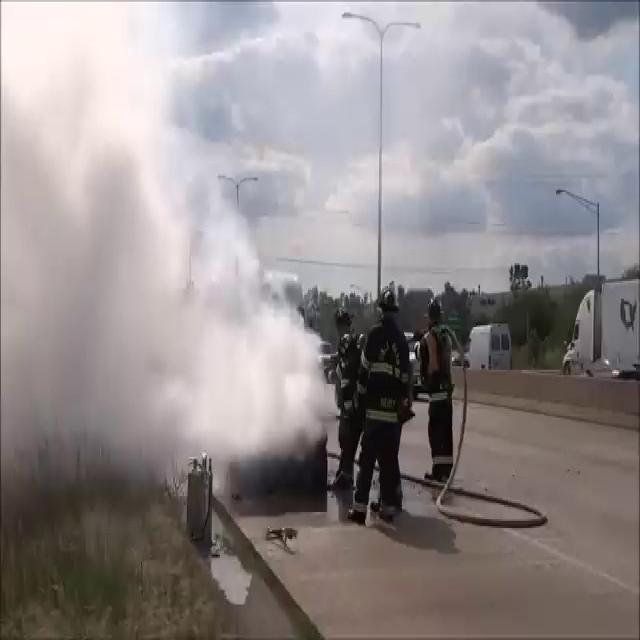Smoke: (1, 3, 338, 489)
